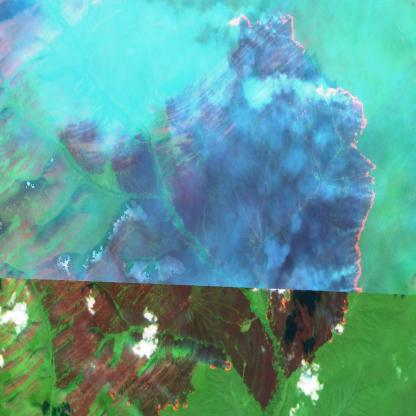fire: (316, 76, 380, 300), (226, 9, 310, 59)
